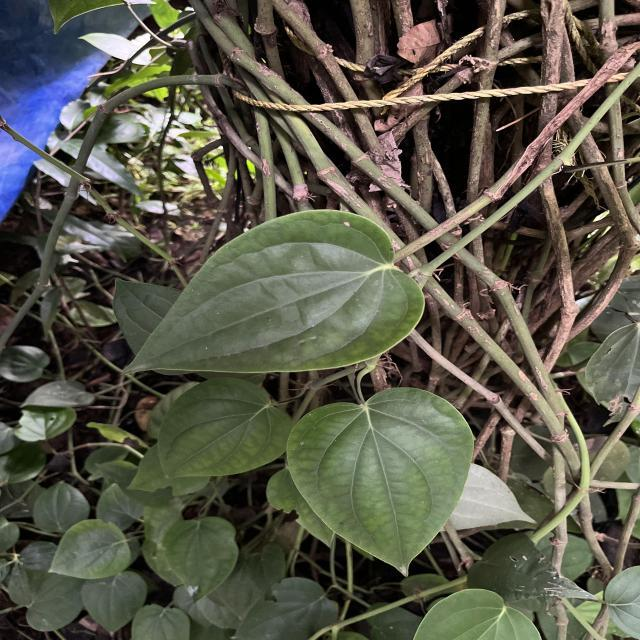Piper nigrum: (116, 208, 428, 376), (284, 384, 476, 578), (154, 376, 296, 482)
